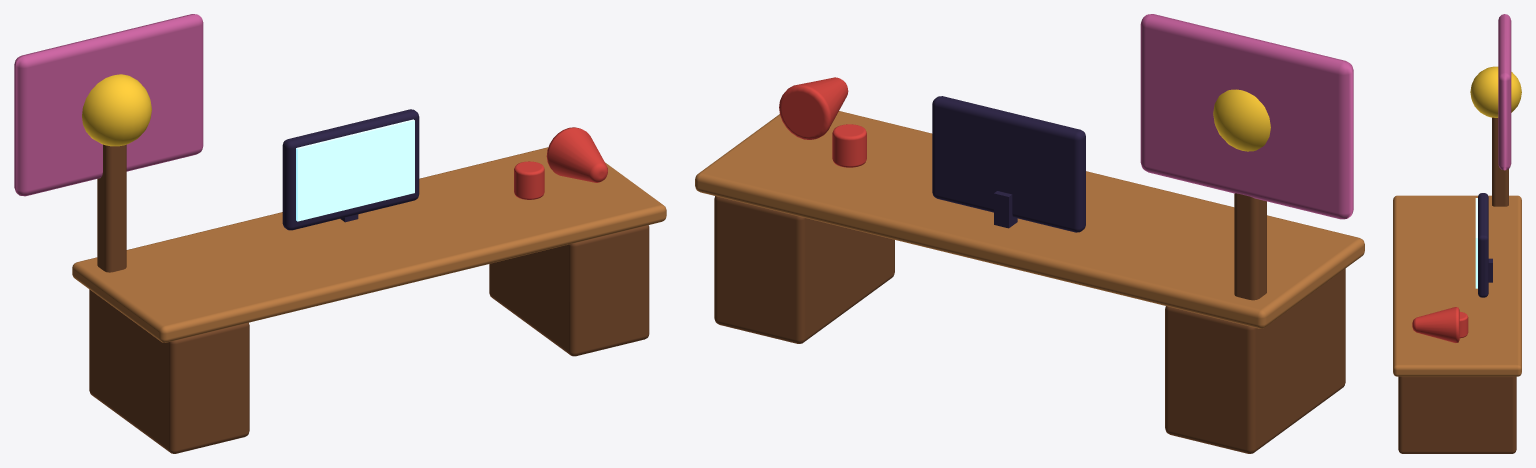
The model's file is promo_booth.glb.
3 renders of one model, left to right at view 1: azimuth 30°, elevation 25°; view 2: azimuth 150°, elevation 25°; view 3: azimuth 270°, elevation 25°, orthographic. The views are drawn at different scales.
Visible parts, largest first — view 1: promo_booth; view 2: promo_booth; view 3: promo_booth.
Part boxes in pixels (x1=…): promo_booth: x1=14, y1=14, x2=666, y2=453; promo_booth: x1=695, y1=14, x2=1364, y2=453; promo_booth: x1=1393, y1=14, x2=1521, y2=453.
Bounding box in the file's own units: 2.15 × 1.3 × 0.6.
